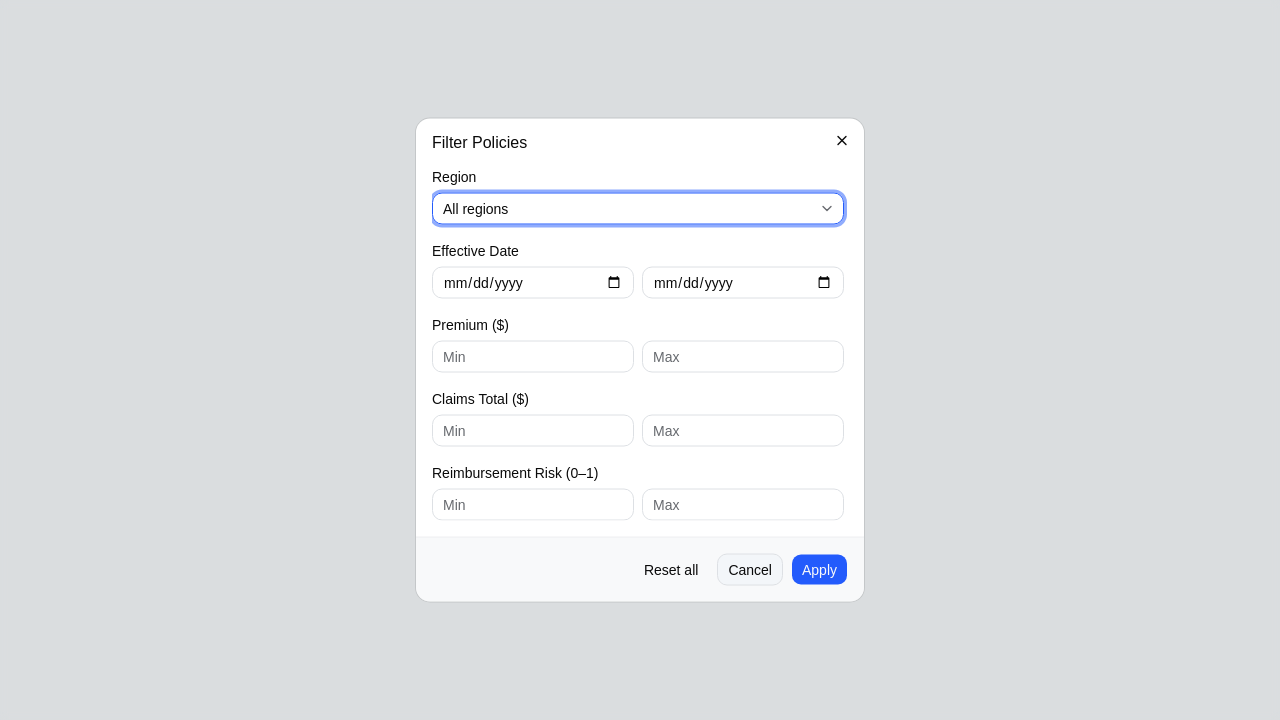
Test: FilterModal › shows validation error when claims total min exceeds max
Type "9999" into the number field named "claims total minimum".
click(533, 430); type("9999")  # box [432, 414, 634, 446]
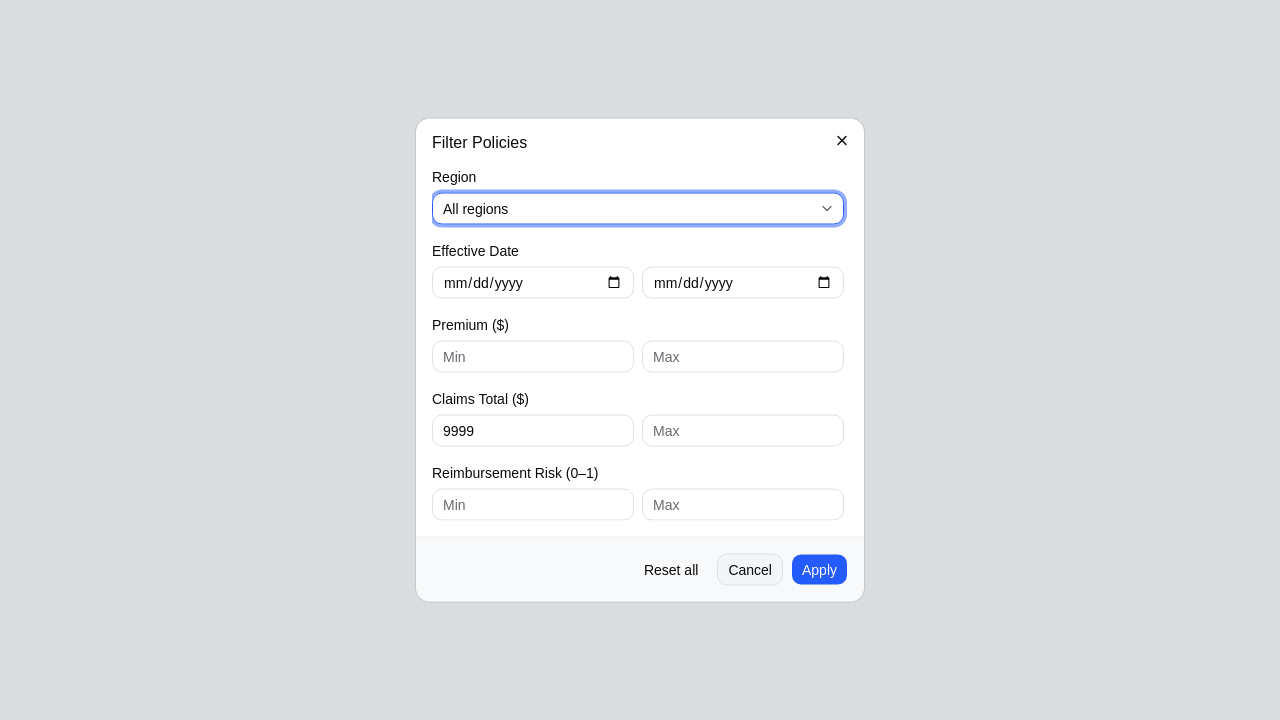
Type "1000" into the number field named "claims total maximum".
click(743, 430); type("1000")  # box [642, 414, 844, 446]
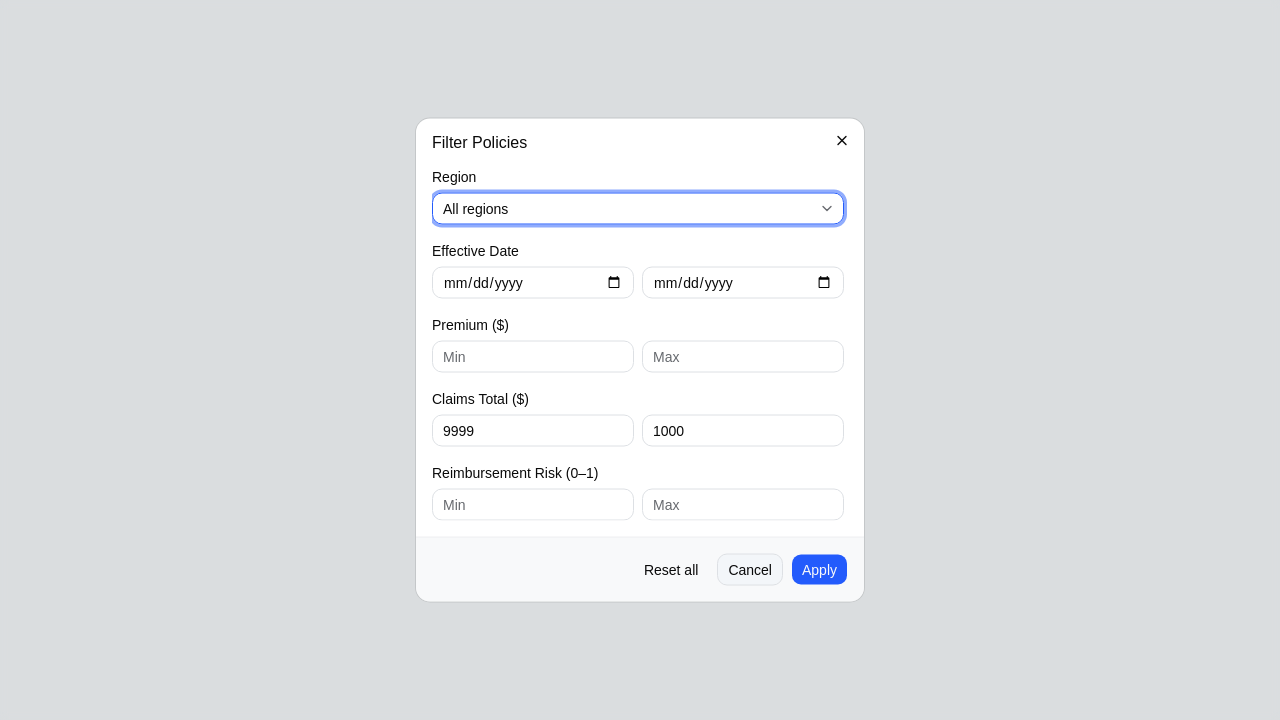
Click the button "Apply".
click(820, 570)  # box [791, 554, 848, 586]
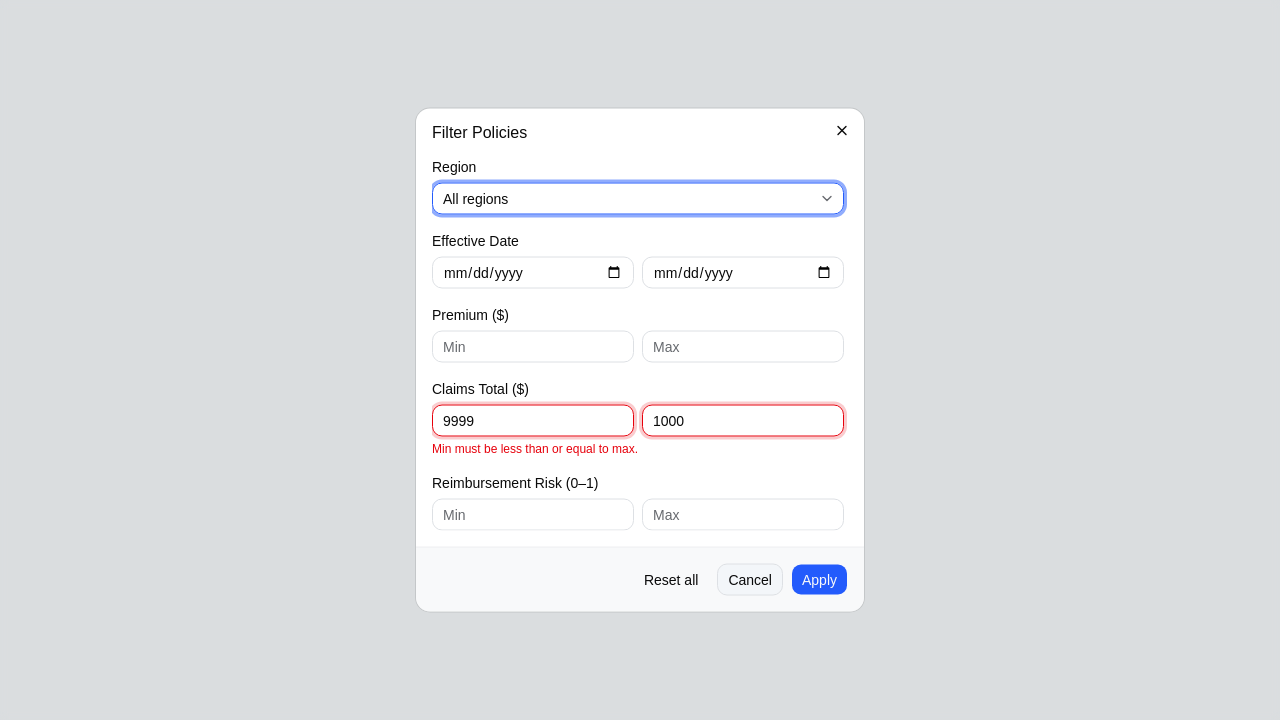
Now the message shows "Min must be less than or equal to max", box [432, 442, 638, 456]
